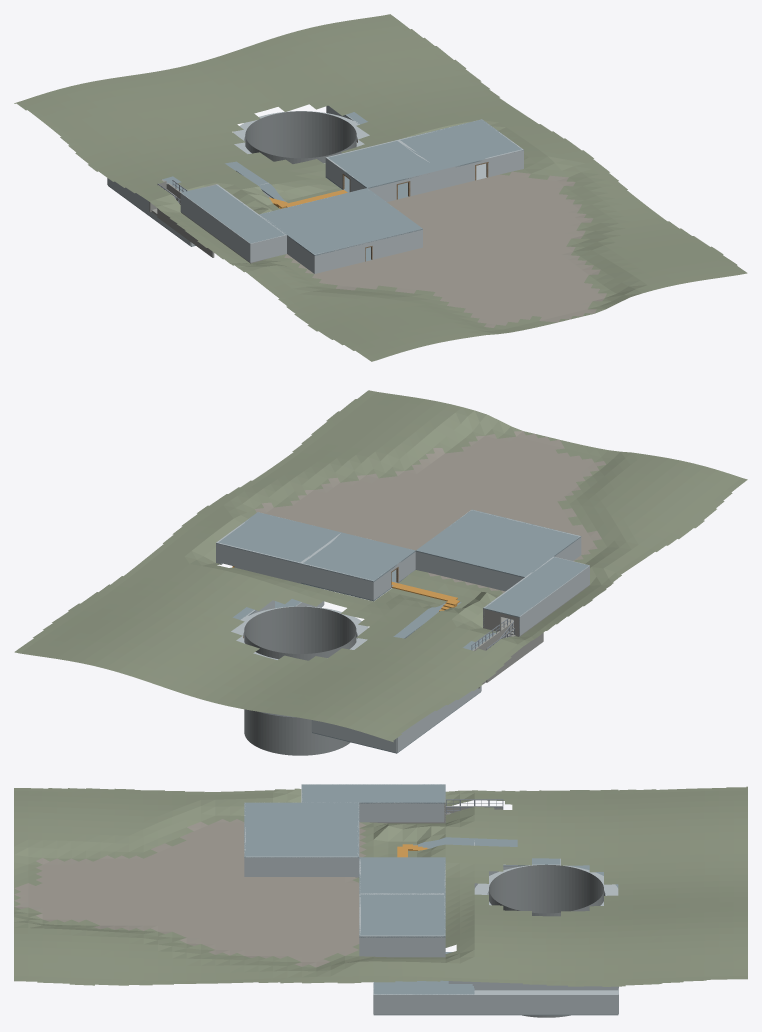
The model's file is clean-doorways.glb.
3 renders of one model, top to bottom at view 1: azimuth 30°, elevation 25°; view 2: azimuth 150°, elevation 25°; view 3: azimuth 270°, elevation 25°, orthographic. The views are drawn at different scales.
Parts seen in each view (by area): view 1: Saved editor geographic earthworks WLD-18, Ceiling cap servicehouse, EMPTY SHAFT / guard engineering pending, Ceiling cap shop, Ceiling cap head, Ceiling cap exit, Wall exit W, WLD-18 clean servicehouse S pier0, WLD-18 clean servicehouse S end, Wall exit S, WLD-18 clean shop S end, WLD-18 clean shop S pier0 (+2 smaller); view 2: Saved editor geographic earthworks WLD-18, EMPTY SHAFT / guard engineering pending, Ceiling cap servicehouse, Ceiling cap shop, Ceiling cap head, Ceiling cap exit, WLD-18 clean servicehouse N end, WLD-18 clean shop N end, WLD-18 clean head N end, Wall exit W, Wall pump N, Wall pump W (+1 smaller); view 3: Saved editor geographic earthworks WLD-18, Ceiling cap servicehouse, EMPTY SHAFT / guard engineering pending, Ceiling cap shop, Ceiling cap head, Wall east E, Ceiling cap exit, WLD-18 clean servicehouse E end, Wall plant E, WLD-18 clean shop E end, WLD-18 clean exit E pier0, Ceiling cap plant (+3 smaller).
Boxes of the visible parts, bbox=[...] form: Saved editor geographic earthworks WLD-18: bbox=[14, 14, 747, 361]; Ceiling cap servicehouse: bbox=[259, 188, 422, 255]; EMPTY SHAFT / guard engineering pending: bbox=[245, 111, 356, 163]; Ceiling cap shop: bbox=[398, 119, 523, 170]; Ceiling cap head: bbox=[328, 141, 438, 188]; Ceiling cap exit: bbox=[181, 184, 286, 243]; Wall exit W: bbox=[180, 193, 250, 262]; WLD-18 clean servicehouse S pier0: bbox=[313, 243, 364, 273]; WLD-18 clean servicehouse S end: bbox=[372, 229, 422, 259]; Wall exit S: bbox=[250, 234, 286, 262]; WLD-18 clean shop S end: bbox=[488, 149, 523, 177]; WLD-18 clean shop S pier0: bbox=[439, 163, 474, 188]; Saved editor geographic earthworks WLD-18: bbox=[14, 390, 747, 742]; EMPTY SHAFT / guard engineering pending: bbox=[244, 606, 356, 755]; Ceiling cap servicehouse: bbox=[415, 509, 580, 577]; Ceiling cap shop: bbox=[216, 512, 342, 564]; Ceiling cap head: bbox=[301, 533, 415, 582]; Ceiling cap exit: bbox=[483, 557, 589, 617]; WLD-18 clean servicehouse N end: bbox=[415, 551, 523, 591]; WLD-18 clean shop N end: bbox=[216, 542, 300, 582]; WLD-18 clean head N end: bbox=[301, 563, 374, 600]; Wall exit W: bbox=[519, 565, 589, 635]; Wall pump N: bbox=[311, 720, 396, 752]; Wall pump W: bbox=[397, 709, 439, 752]; Saved editor geographic earthworks WLD-18: bbox=[14, 786, 747, 986]; Ceiling cap servicehouse: bbox=[244, 802, 359, 857]; EMPTY SHAFT / guard engineering pending: bbox=[489, 864, 603, 1017]; Ceiling cap shop: bbox=[359, 894, 445, 937]; Ceiling cap head: bbox=[359, 857, 445, 893]; Wall east E: bbox=[474, 994, 618, 1014]; Ceiling cap exit: bbox=[302, 784, 445, 803]; WLD-18 clean servicehouse E end: bbox=[246, 856, 357, 876]; Wall plant E: bbox=[373, 994, 474, 1014]; WLD-18 clean shop E end: bbox=[361, 935, 443, 955]; WLD-18 clean exit E pier0: bbox=[358, 802, 445, 822]; Ceiling cap plant: bbox=[373, 952, 474, 994].
Bounding box in the file's own units: 64 × 19 × 102.
33 materials, 20 textured.
